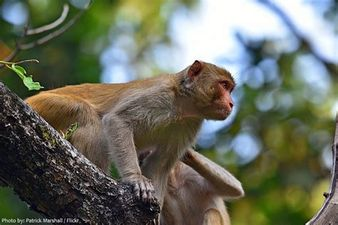monkey: (33, 36, 296, 207)
